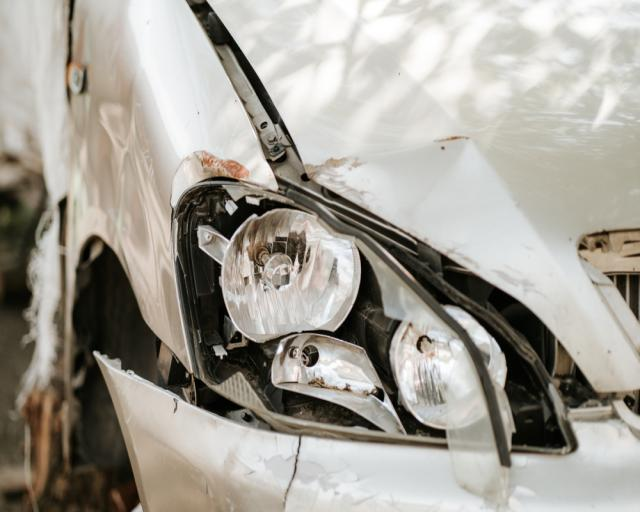crack: (283, 435, 303, 512)
dent: (171, 156, 233, 212)
lamp broken: (175, 182, 569, 452)
